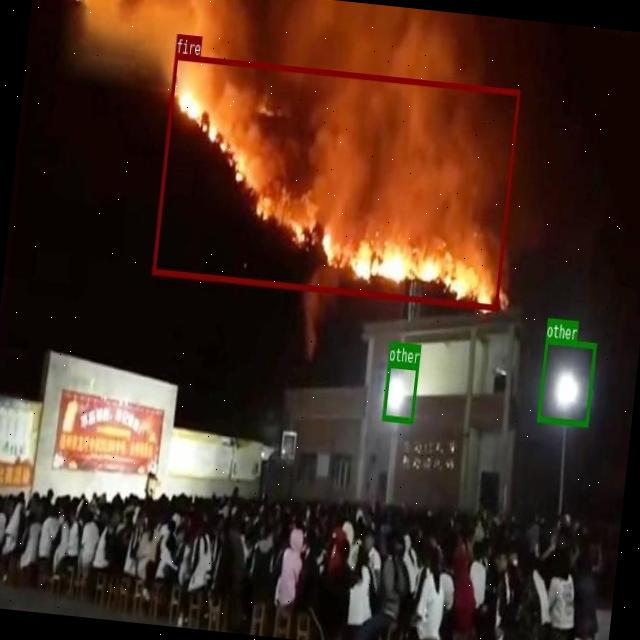fire: (152, 53, 520, 310)
